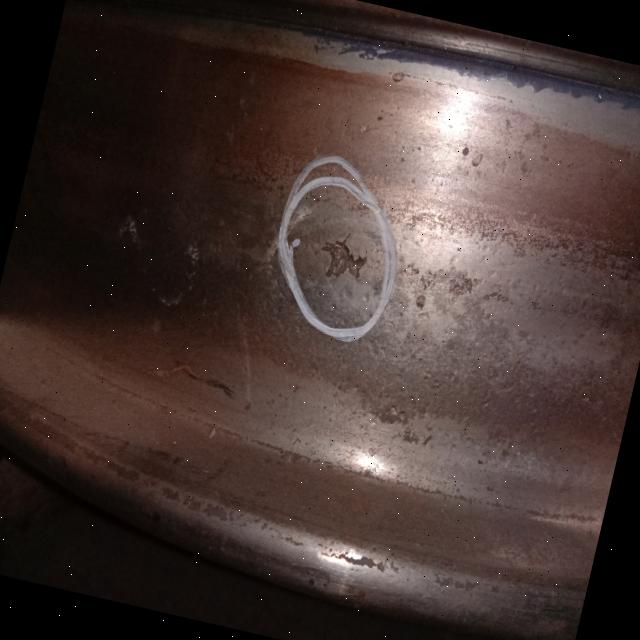Blue hole: (307, 222, 383, 302)
